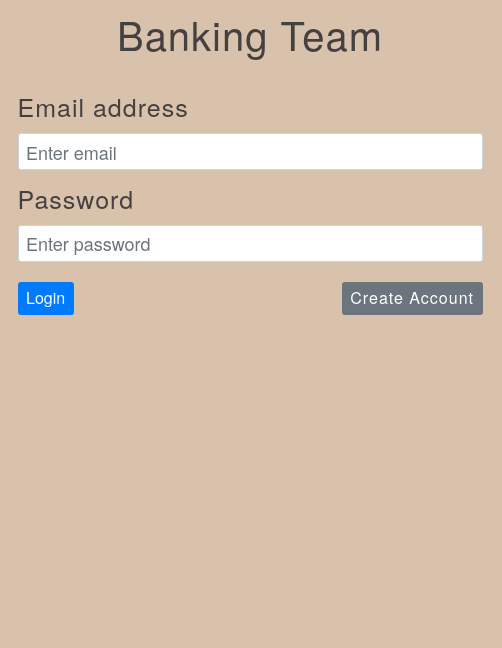
Test: Should positive and negative messages for register page › (TP_0003) Should test that passwords dont match
Expected: the heading "Banking Team" is shown, [117,5,383,62]
Click the link "Create Account". click: (413, 299)
box: [342,282,483,316]
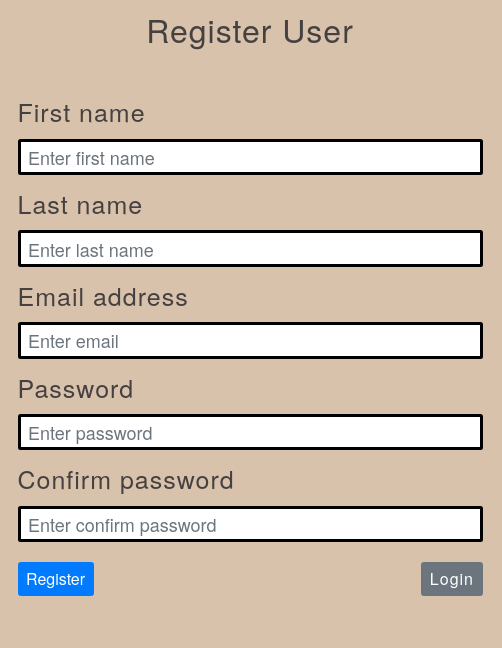
Now the heading "Register User" is shown, box [146,6,354,52]
Type "Clint" into the field named "first_name". click: (251, 158)
box: [18,139,483,176]
Type "Rizzo" into the field named "last_name". click: (251, 249)
box: [18,230,483,267]
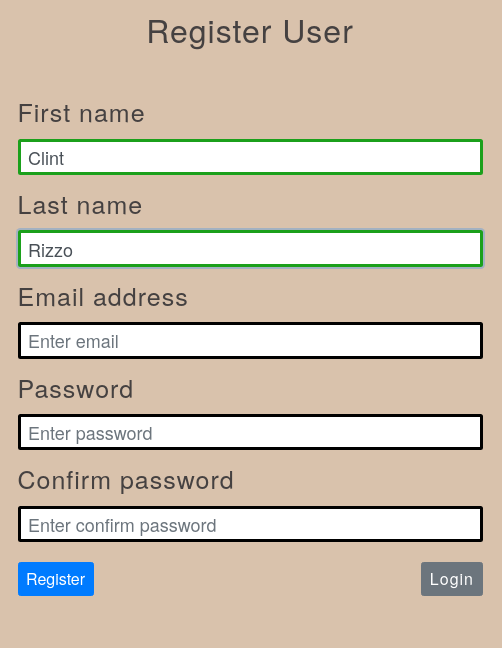
Type "hello@cypress.io" into the field named "email". click: (251, 341)
box: [18,322,483,359]
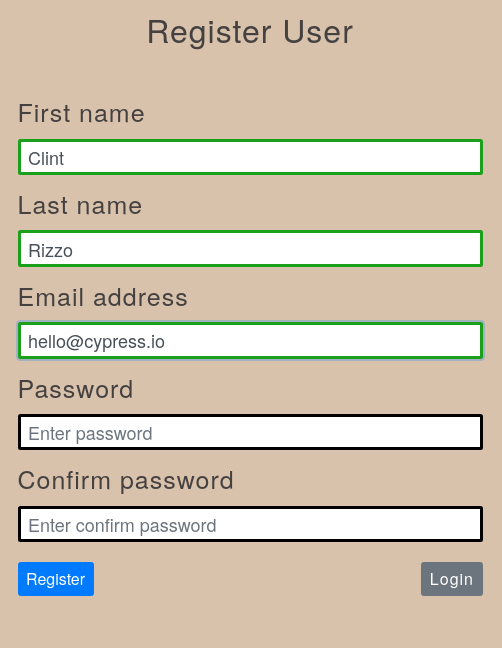
Type "123456cpr" into the password field named "password". click: (251, 433)
box: [18,414,483,451]
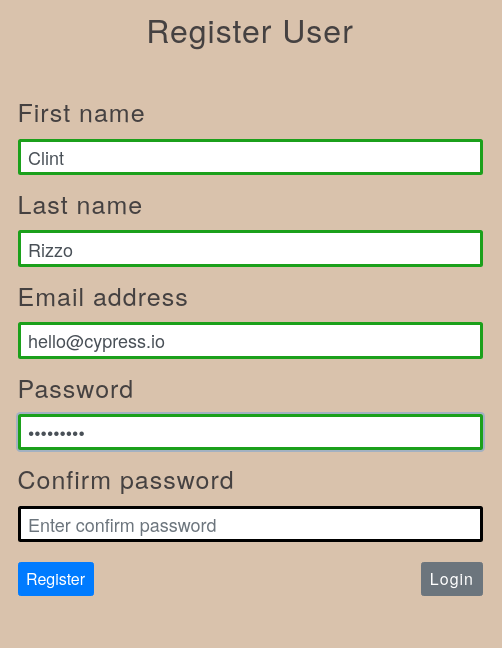
Type "123" into the password field named "cpassword". click: (251, 525)
box: [18,506,483,543]
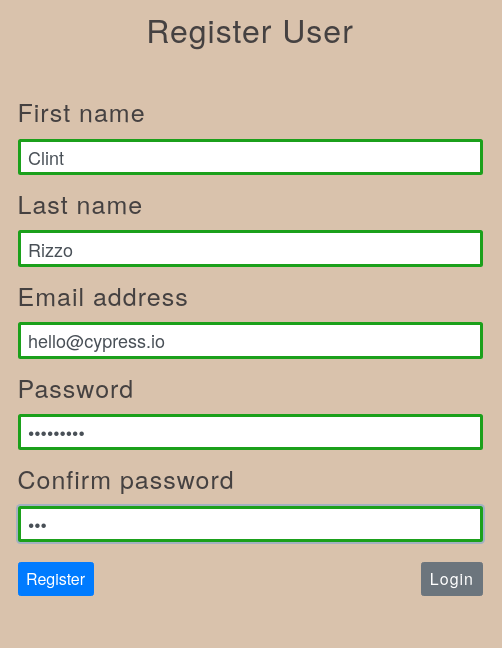
Click the button "Register". click: (56, 579)
box: [18,562,94,596]
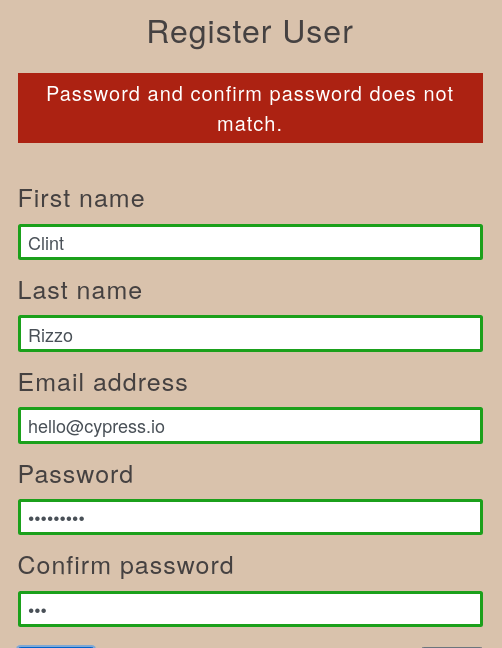
Now the text with class "errorMsg" reads "Password and confirm password does not match.", box [46,78,454,137]
